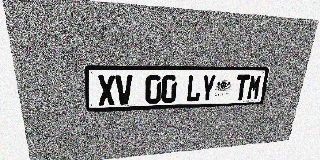0: (145, 75, 162, 104), (161, 75, 177, 103)
L: (186, 75, 202, 102)
M: (246, 74, 262, 100)
T: (234, 74, 250, 100)
V: (115, 75, 132, 105)
X: (97, 75, 116, 106)
Y: (200, 75, 216, 102)
